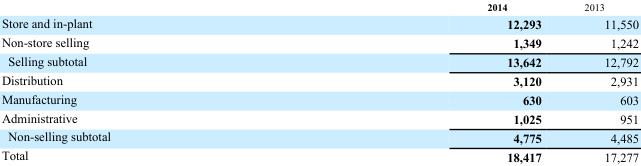table: (0, 0, 638, 163)
table column: (0, 0, 298, 163), (298, 0, 562, 163), (562, 0, 638, 163)
table column header: (0, 0, 638, 13)
table row: (0, 13, 638, 32), (0, 32, 638, 51), (0, 51, 638, 70), (0, 70, 638, 89), (0, 89, 638, 108), (0, 108, 638, 127), (0, 127, 638, 146), (0, 146, 638, 163), (0, 0, 638, 13)
